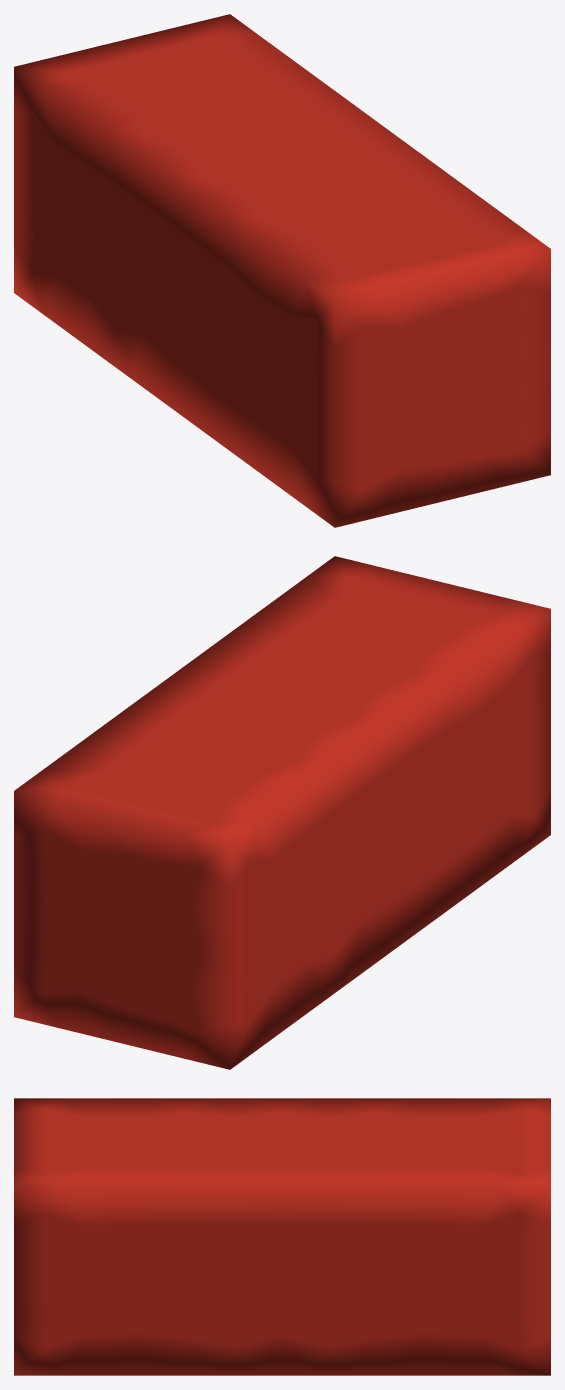
The model's file is assembly_child.obj.
3 renders of one model, top to bottom at view 1: azimuth 30°, elevation 25°; view 2: azimuth 150°, elevation 25°; view 3: azimuth 270°, elevation 25°, orthographic. The views are drawn at different scales.
Size of the model in its own units: 0.035 by 0.035 by 0.09.
